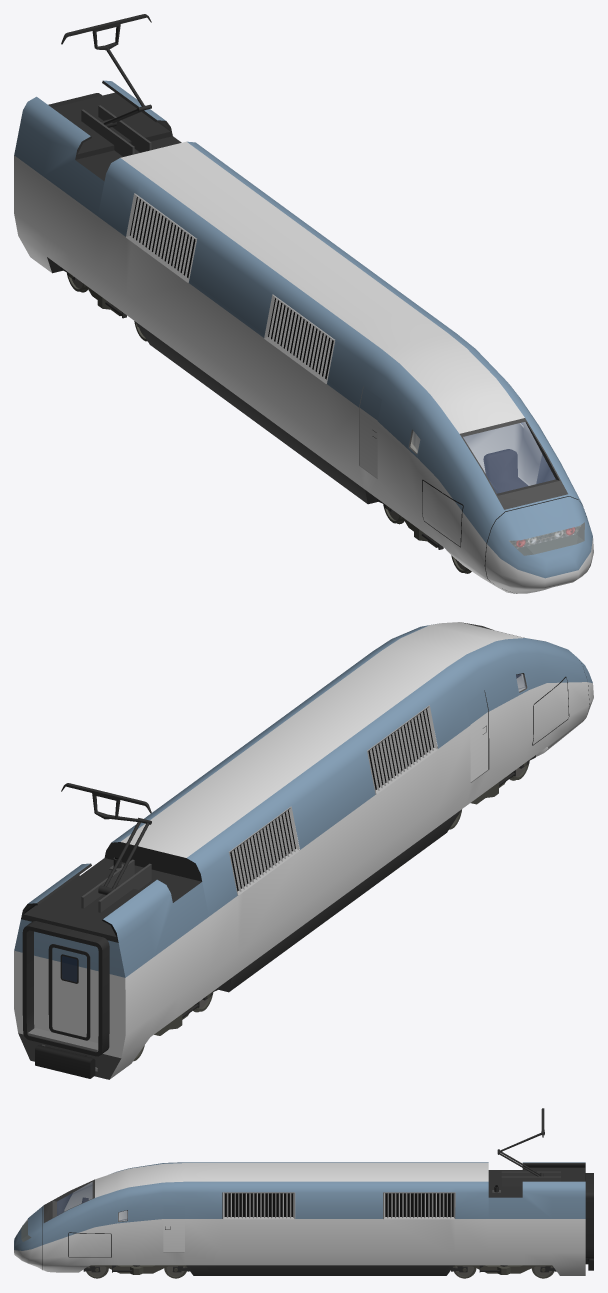
File: sweethome3d-scopia-locomotive.glb
The picture shows the model from 3 angles, top to bottom: view 1: azimuth 30°, elevation 25°; view 2: azimuth 150°, elevation 25°; view 3: azimuth 270°, elevation 25°; orthographic projection. The views are drawn at different scales.
Visible parts, largest first — view 1: locomotive, Grid, InteriorLocomotive, hook, wheels, BoxLights; view 2: locomotive, Grid, Inbetween, hook, BackDoor, wheels, Platform; view 3: locomotive, Grid, wheels, hook, Inbetween, InteriorLocomotive.
Boxes of the visible parts, box(x1,y1,x2,y2) form: locomotive: box(14, 80, 593, 593); Grid: box(126, 193, 335, 383); InteriorLocomotive: box(410, 422, 555, 493); hook: box(61, 14, 151, 156); wheels: box(60, 267, 471, 573); BoxLights: box(509, 522, 584, 555); locomotive: box(14, 622, 593, 1079); Grid: box(228, 705, 437, 895); Inbetween: box(22, 921, 109, 1056); hook: box(61, 783, 151, 912); BackDoor: box(48, 944, 90, 1040); wheels: box(133, 747, 535, 1061); Platform: box(28, 1028, 98, 1051); locomotive: box(14, 1162, 593, 1275); Grid: box(222, 1192, 455, 1219); wheels: box(83, 1265, 556, 1278); hook: box(492, 1108, 560, 1193); Inbetween: box(585, 1173, 593, 1258); InteriorLocomotive: box(57, 1182, 127, 1221).
Size of the model in its own units: 292 by 647 by 2247.
